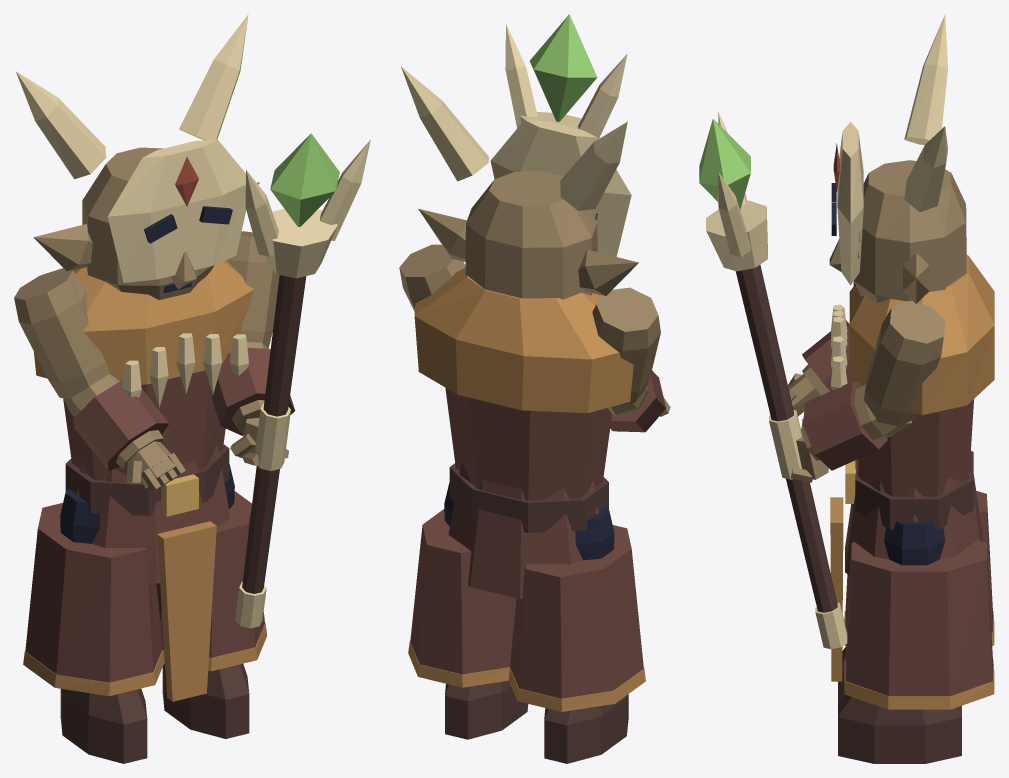
File: shaman.obj
3 renders of one model, left to right at view 1: azimuth 30°, elevation 25°; view 2: azimuth 150°, elevation 25°; view 3: azimuth 270°, elevation 25°, orthographic. The views are drawn at different scales.
Parts seen in each view (by area): view 1: shaman_02, shaman_26, shaman_16, shaman_05, shaman_29, shaman_14, shaman_00, shaman_04, shaman_15, shaman_23, shaman_21, shaman_28 (+17 smaller); view 2: shaman_16, shaman_26, shaman_00, shaman_15, shaman_02, shaman_21, shaman_28, shaman_14, shaman_30, shaman_23, shaman_06, shaman_05 (+6 smaller); view 3: shaman_21, shaman_00, shaman_16, shaman_02, shaman_15, shaman_18, shaman_04, shaman_10, shaman_05, shaman_09, shaman_28, shaman_30 (+10 smaller).
Part boxes in pixels (<box>): shaman_02: <box>15,14,248,282</box>; shaman_26: <box>25,503,162,682</box>; shaman_16: <box>34,260,254,384</box>; shaman_05: <box>235,139,370,628</box>; shaman_29: <box>157,521,216,701</box>; shaman_14: <box>14,268,109,399</box>; shaman_00: <box>33,147,259,299</box>; shaman_04: <box>242,275,306,593</box>; shaman_15: <box>63,370,225,482</box>; shaman_23: <box>60,688,147,763</box>; shaman_21: <box>156,491,264,657</box>; shaman_28: <box>76,445,230,583</box>; shaman_16: <box>414,267,633,413</box>; shaman_26: <box>510,525,643,698</box>; shaman_00: <box>418,170,638,299</box>; shaman_15: <box>445,388,612,500</box>; shaman_02: <box>401,66,631,256</box>; shaman_21: <box>410,509,516,674</box>; shaman_28: <box>448,461,598,598</box>; shaman_14: <box>592,287,660,404</box>; shaman_30: <box>449,463,608,532</box>; shaman_23: <box>544,694,628,763</box>; shaman_06: <box>529,14,597,121</box>; shaman_05: <box>505,24,627,138</box>; shaman_21: <box>845,540,992,696</box>; shaman_00: <box>829,160,966,303</box>; shaman_16: <box>849,254,994,415</box>; shaman_02: <box>837,14,947,285</box>; shaman_15: <box>859,399,973,496</box>; shaman_18: <box>838,695,961,763</box>; shaman_04: <box>735,265,837,612</box>; shaman_10: <box>864,300,945,426</box>; shaman_05: <box>706,112,847,649</box>; shaman_09: <box>803,381,887,470</box>; shaman_28: <box>845,453,983,575</box>; shaman_30: <box>855,451,973,529</box>.
Bounding box in the file's own units: 0.9491 × 2.37 × 0.9692.
